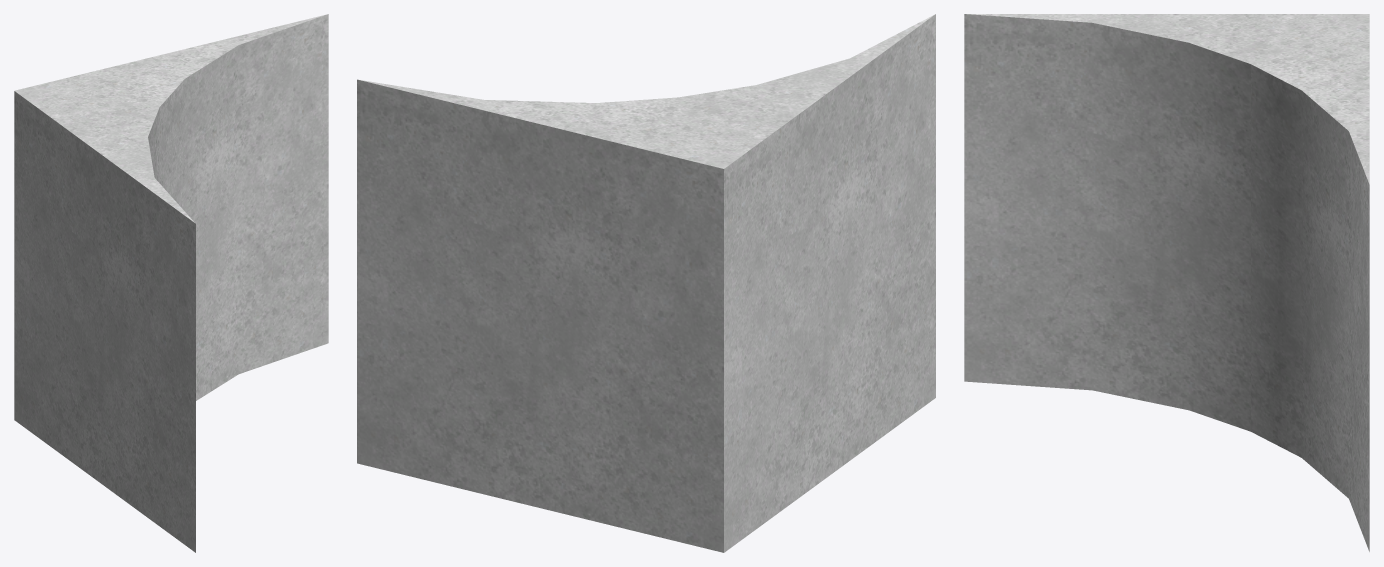
File: roundwedge2.obj
3 views of the same model, side by side, from view 1: azimuth 30°, elevation 25°; view 2: azimuth 150°, elevation 25°; view 3: azimuth 270°, elevation 25° (orthographic). The views are drawn at different scales.
Visible parts, largest first — view 1: Roundwedge21; view 2: Roundwedge21; view 3: Roundwedge21.
Part boxes in pixels (<box>): Roundwedge21: <box>14,14,328,552</box>; Roundwedge21: <box>357,14,935,552</box>; Roundwedge21: <box>964,14,1369,551</box>.
Size of the model in its own units: 2 by 2 by 2.
1 material, 1 textured.
